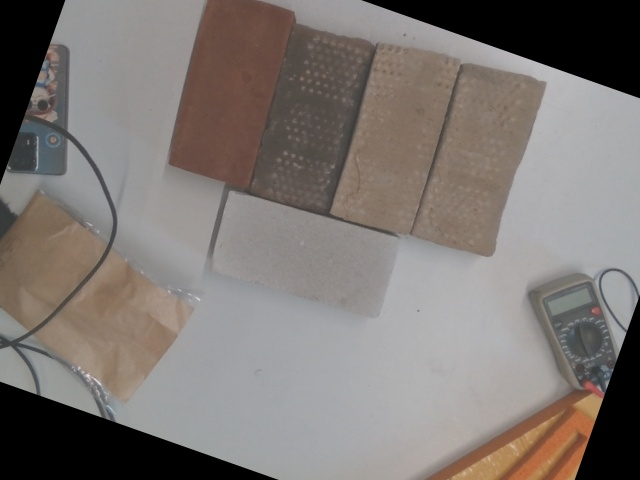brick: (415, 63, 540, 263), (333, 40, 458, 240), (247, 21, 374, 215), (207, 192, 401, 315)
